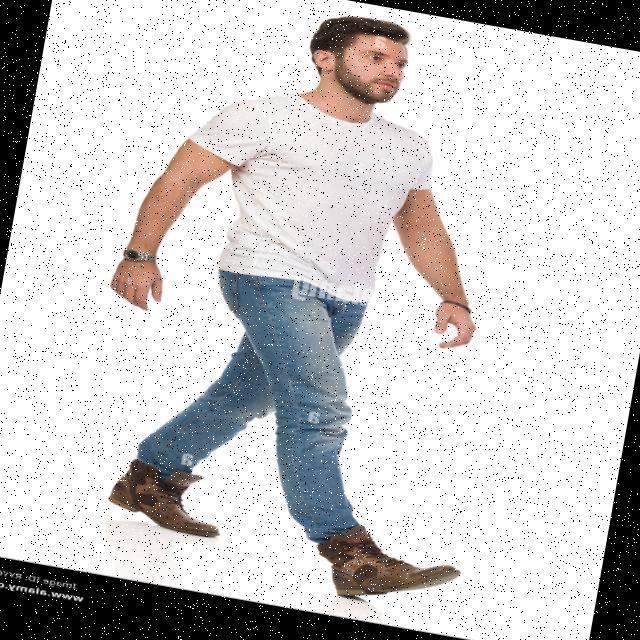Person: (64, 0, 551, 615)
